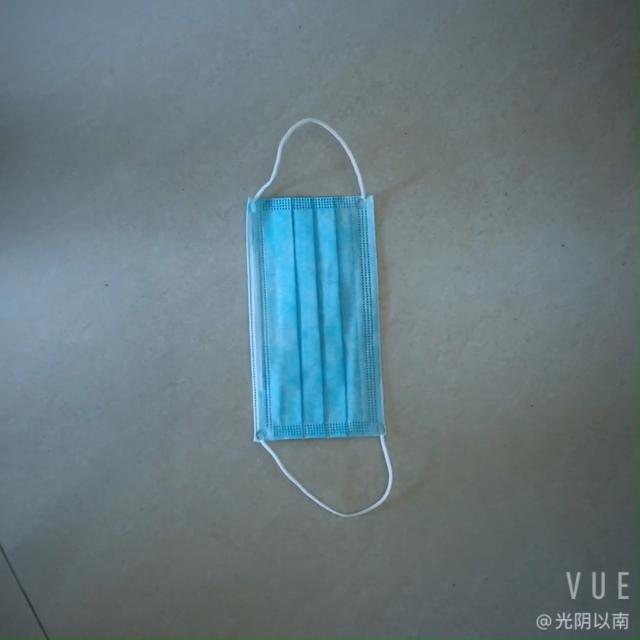face mask: (226, 164, 385, 463)
